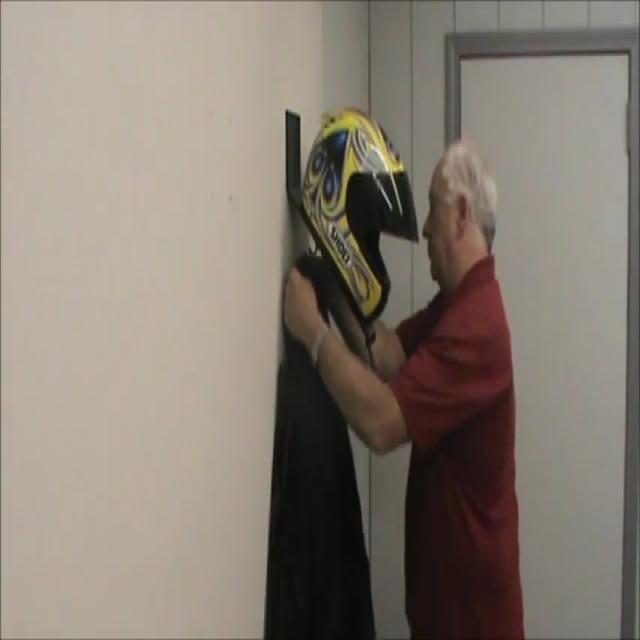Person: (301, 131, 536, 637)
